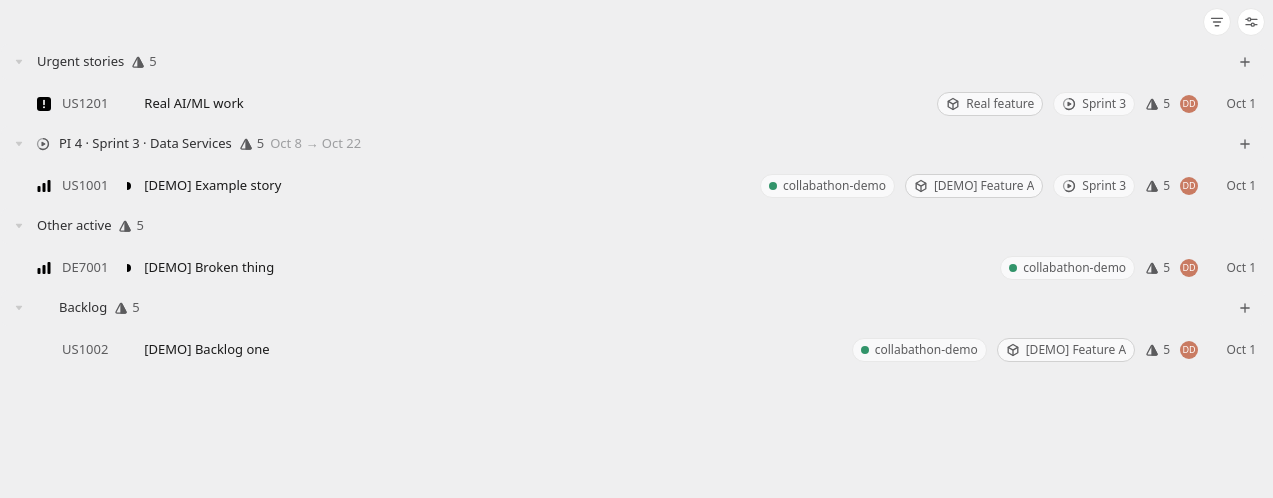
Rally's words › the Filter menu and its Feature and Sprint values
Click the button named "Add filter". click: (1217, 22)
box: [1203,8,1231,36]
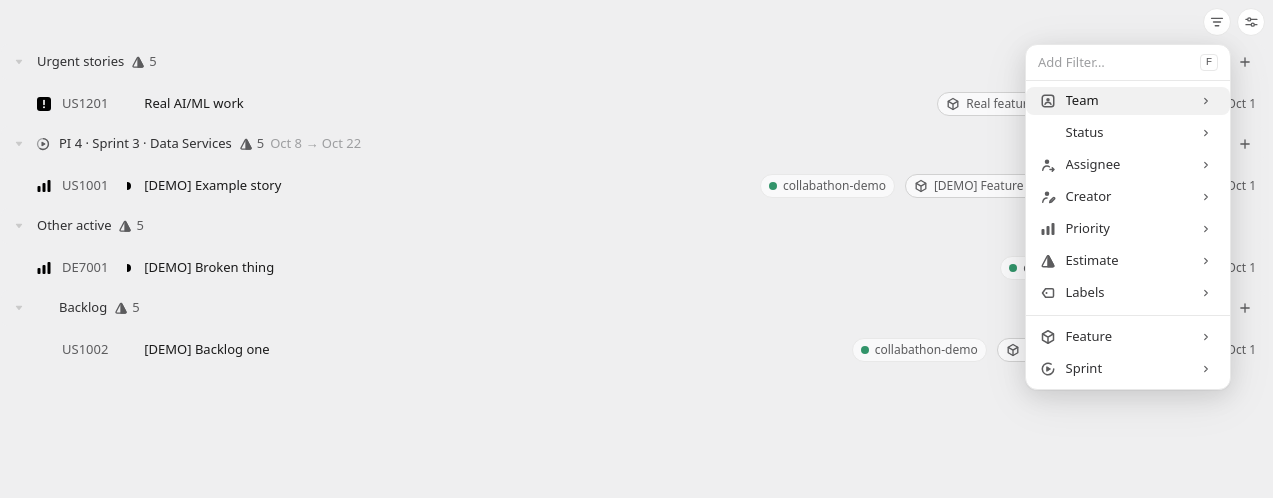
Expected: the menu item "Feature" is shown
Click the menu item "Feature". click: (1089, 336)
box: [1040,327,1212,345]
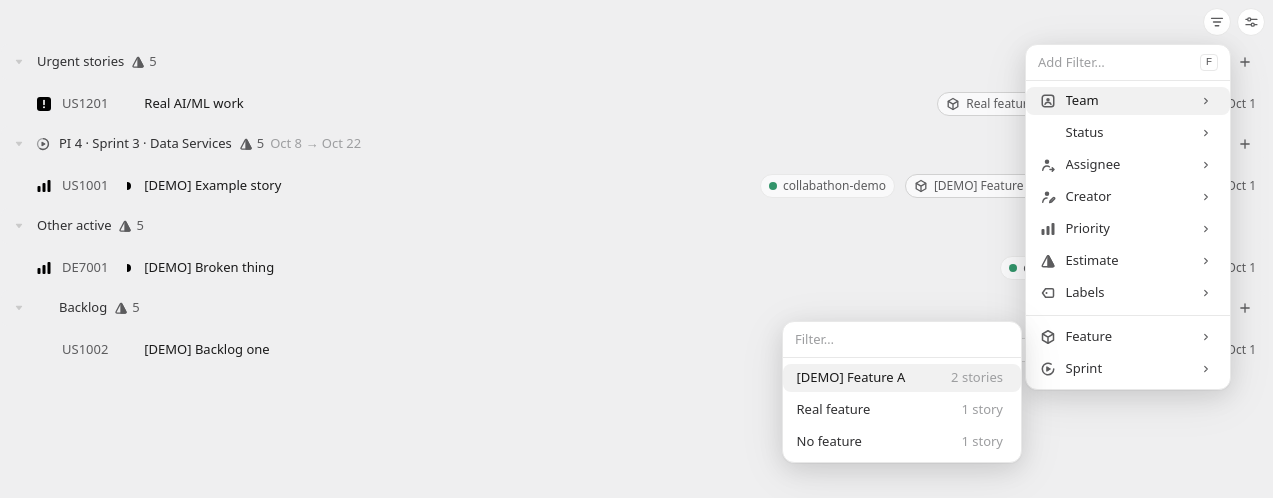
Expected: the menu item "No feature 1 story" is shown, [796,432,1003,450]
